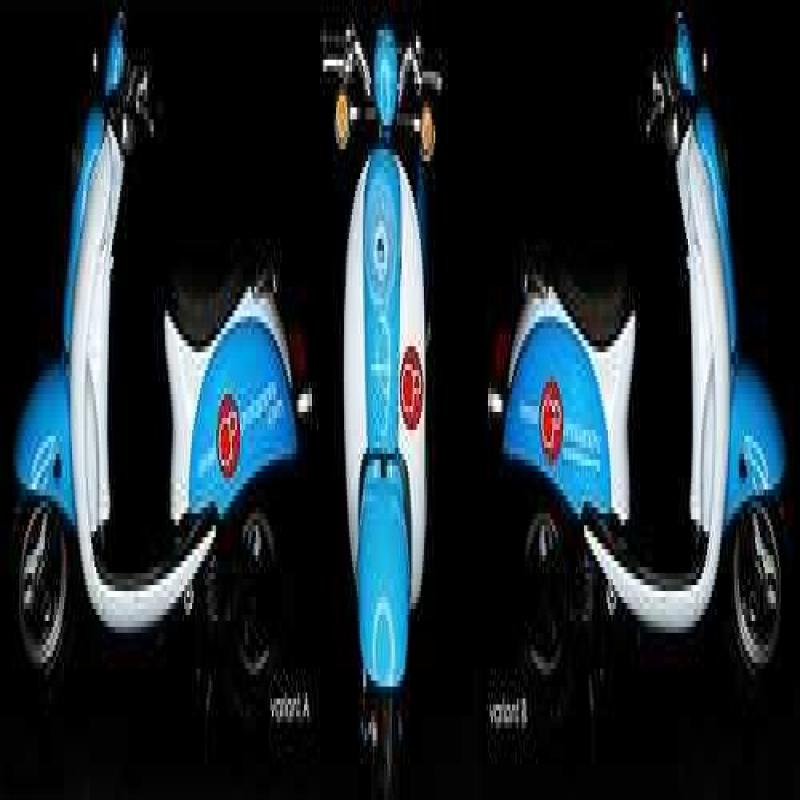bike: (481, 3, 800, 742), (16, 11, 302, 696), (306, 6, 448, 764)
